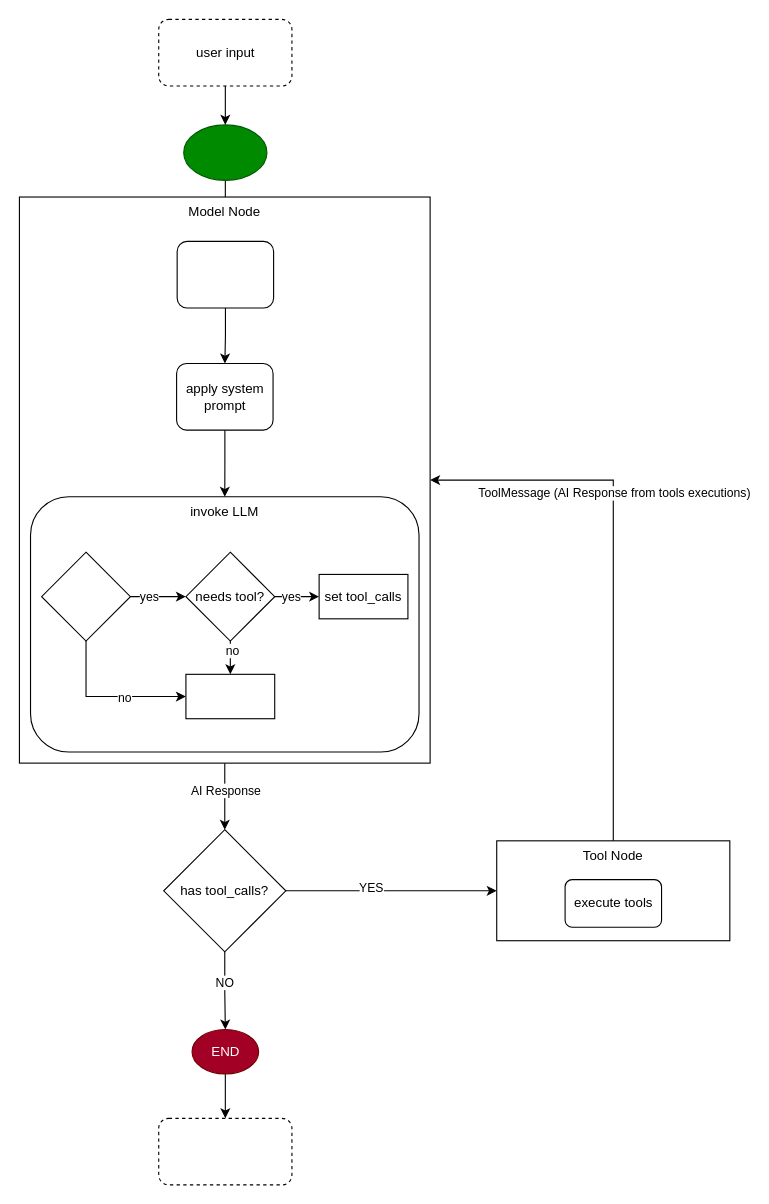
The diagram is 769 pixels wide and 1204 high, and some of its shapes have lost their labels. The shapes that lost their labels are listed below. From the top down, each one's centre as x and y in pixels, then its label:
At (225,152): "START".
At (225,274): "trim messages".
At (85,596): "has tools?".
At (230,696): "no tool calls".
At (225,1151): "response".
